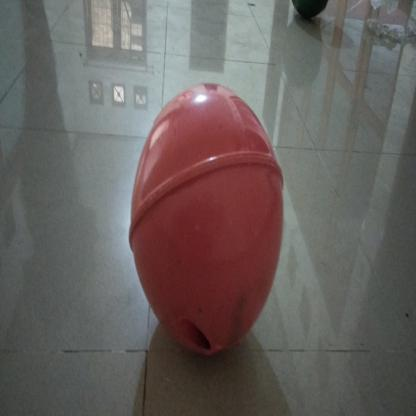green_buoy: (288, 1, 332, 20)
red_buoy: (126, 82, 286, 364)
